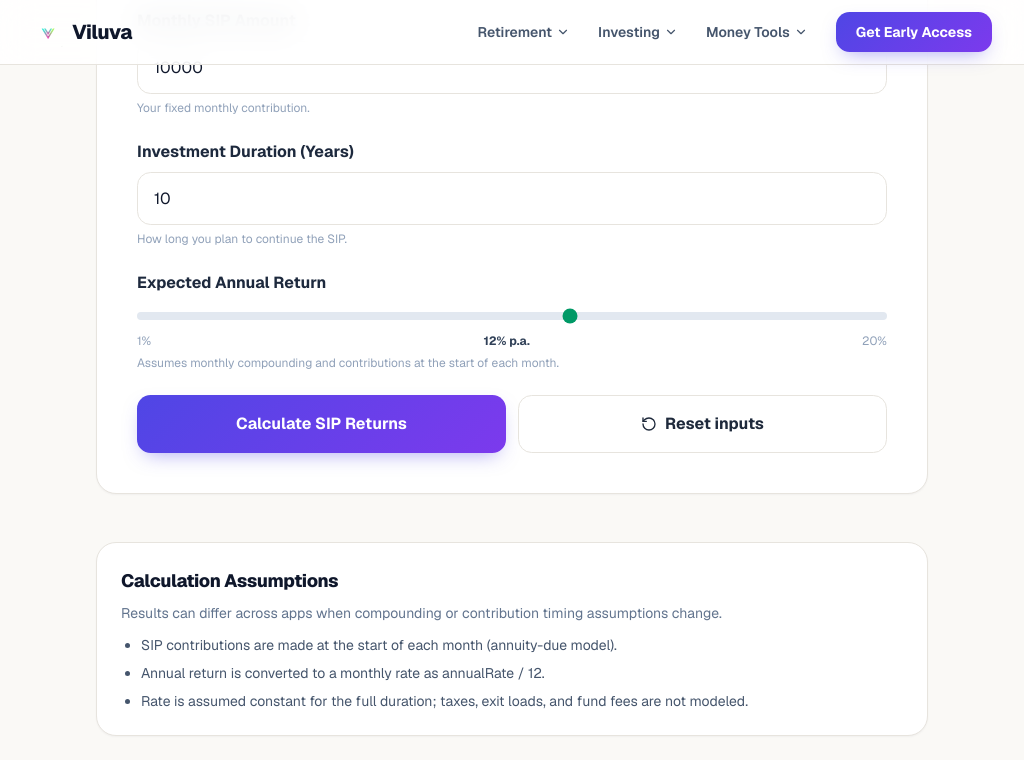
Test: Investment calculators UI › calculates the default SIP projection
The width and height of the screenshot is (1024, 760).
(page scrolled)
Click the button "Calculate SIP Returns". click: click(322, 424)
box: [137,395,506,453]
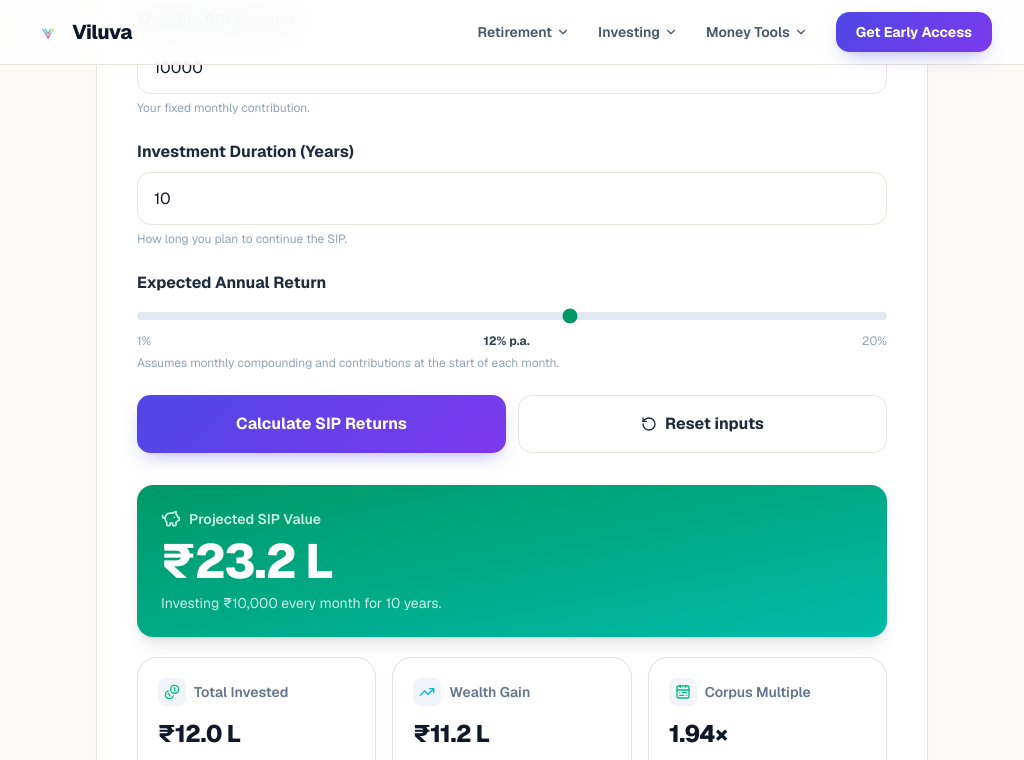
Check: the text "Projected SIP Value" is shown, box [161,509,321,529]
Check: the text "₹23.2 L" is shown, box [161,530,333,592]
